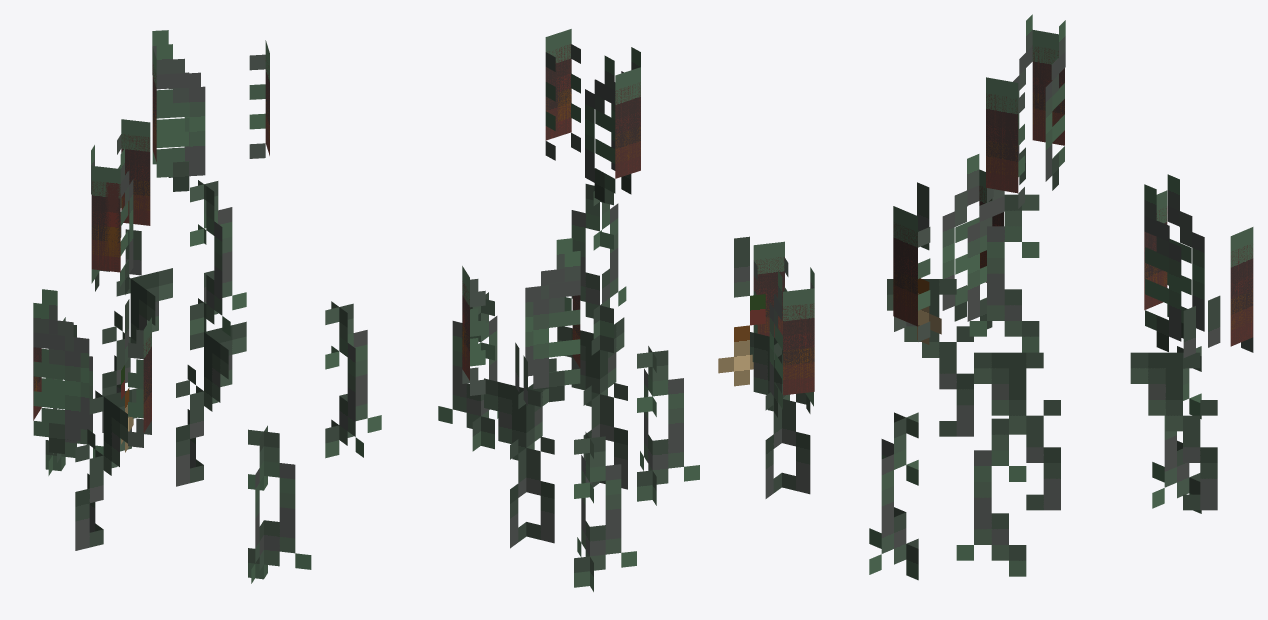
File: dry_muscipula_bite.obj
The picture shows the model from 3 angles, left to right: view 1: azimuth 30°, elevation 25°; view 2: azimuth 150°, elevation 25°; view 3: azimuth 270°, elevation 25°; orthographic projection. The views are drawn at different scales.
Size of the model in its own units: 1.67 by 2.12 by 1.43.
